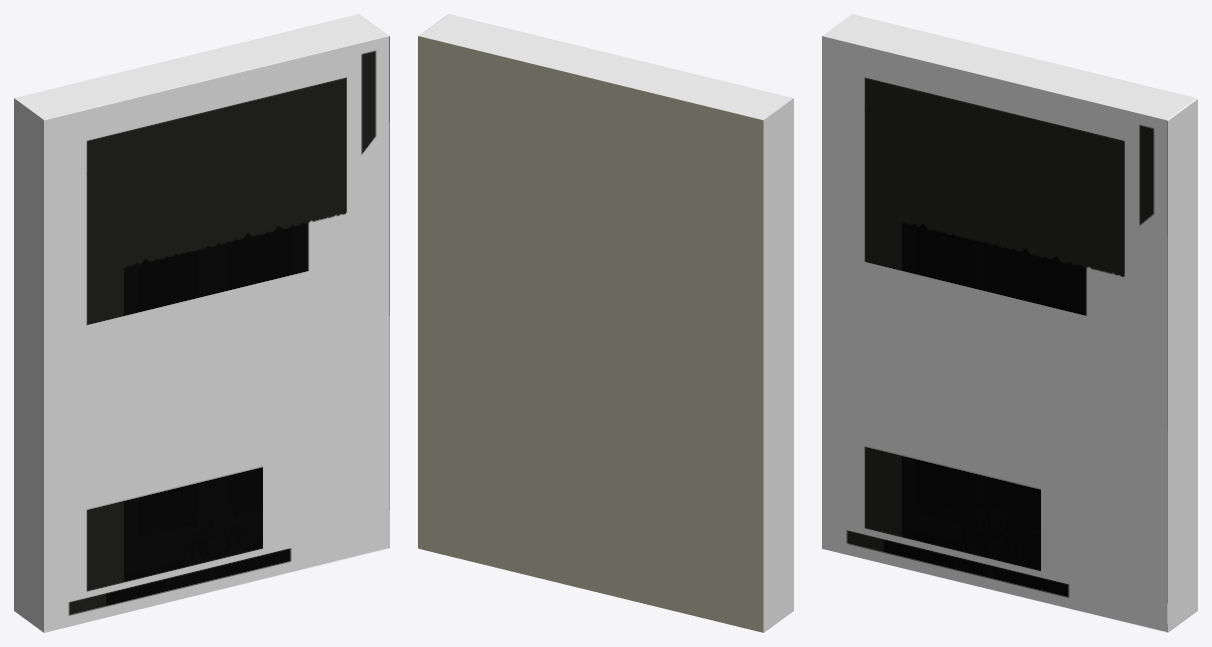
The model's file is Nocover.glb.
3 views of the same model, side by side, from view 1: azimuth 30°, elevation 25°; view 2: azimuth 150°, elevation 25°; view 3: azimuth 330°, elevation 25° (orthographic).
Visible parts, largest first — view 1: Cube; view 2: Cube; view 3: Cube.
Boxes of the visible parts, x1=… form: Cube: x1=14, y1=14, x2=389, y2=632; Cube: x1=418, y1=14, x2=793, y2=632; Cube: x1=822, y1=14, x2=1197, y2=632.
Bounding box in the file's own units: 0.1693 × 0.24 × 0.0256.
3 materials, 1 textured.
